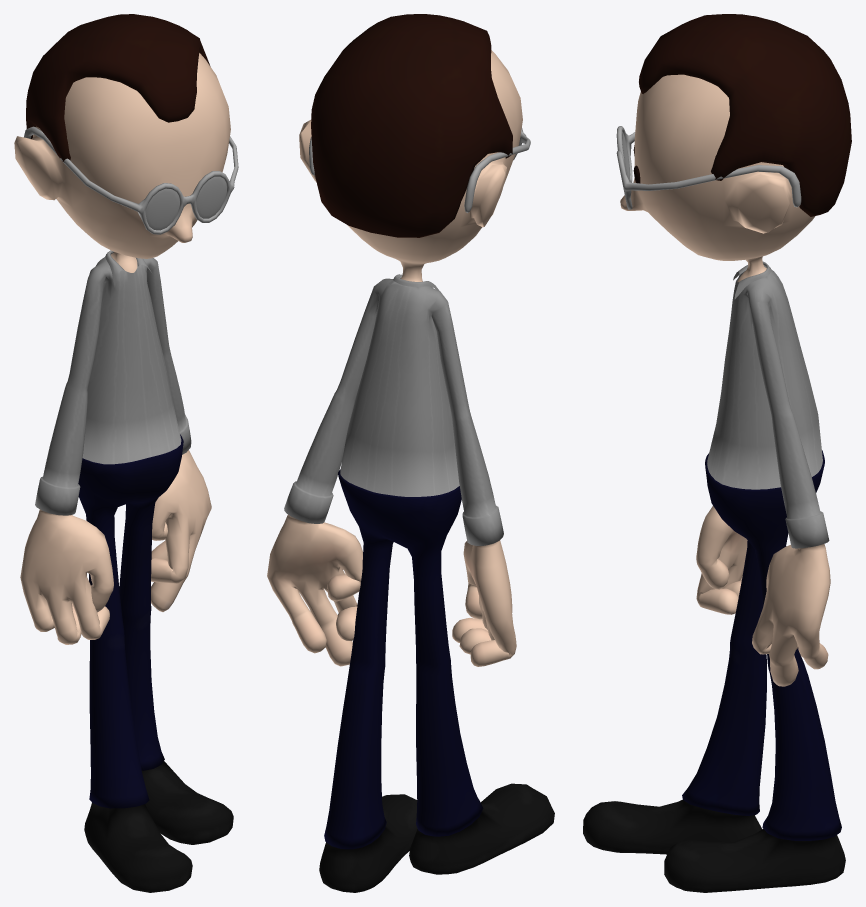
File: Animation_Cartoon_Starter_000177.obj
The picture shows the model from 3 angles, left to right: view 1: azimuth 30°, elevation 25°; view 2: azimuth 150°, elevation 25°; view 3: azimuth 270°, elevation 25°; orthographic projection. The views are drawn at different scales.
Visible parts, largest first — view 1: bm_09; view 2: bm_09; view 3: bm_09.
Part boxes in pixels (left/top/right/bottom): bm_09: left=14, top=14, right=238, bottom=892; bm_09: left=267, top=14, right=554, bottom=892; bm_09: left=583, top=14, right=851, bottom=892.
Bounding box in the file's own units: 0.4122 × 1.51 × 0.4413.
3 materials, 1 textured.
